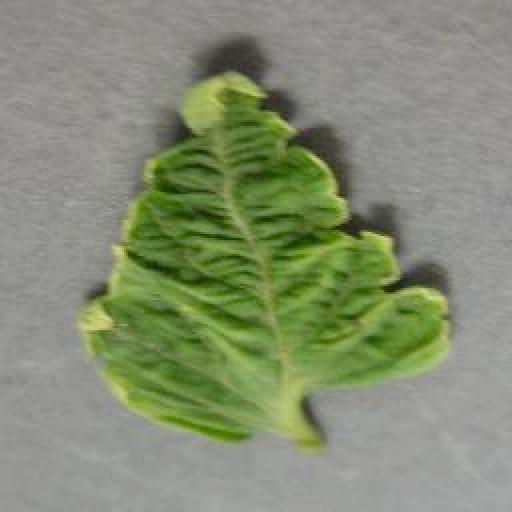disease_tomato: (78, 70, 456, 442)
